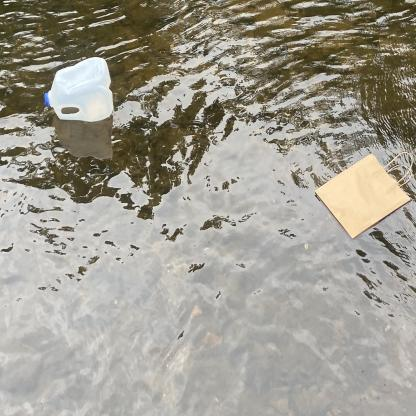trash: (306, 138, 416, 246), (42, 50, 120, 128)
